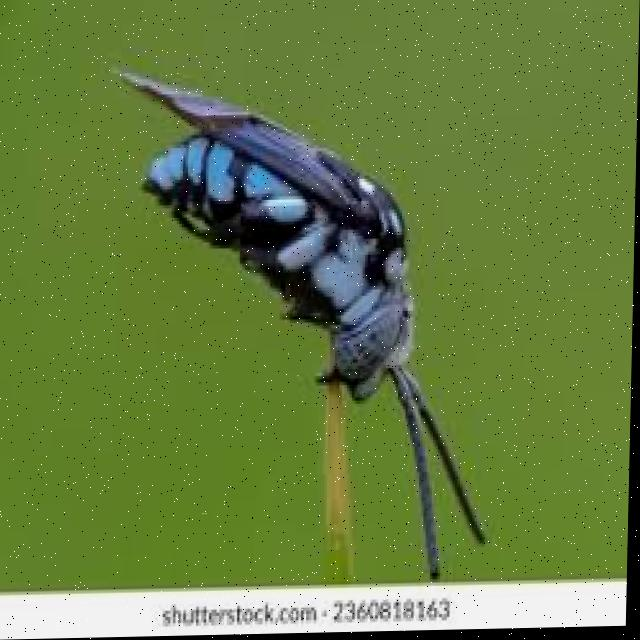Thyreus: (105, 48, 510, 574)
